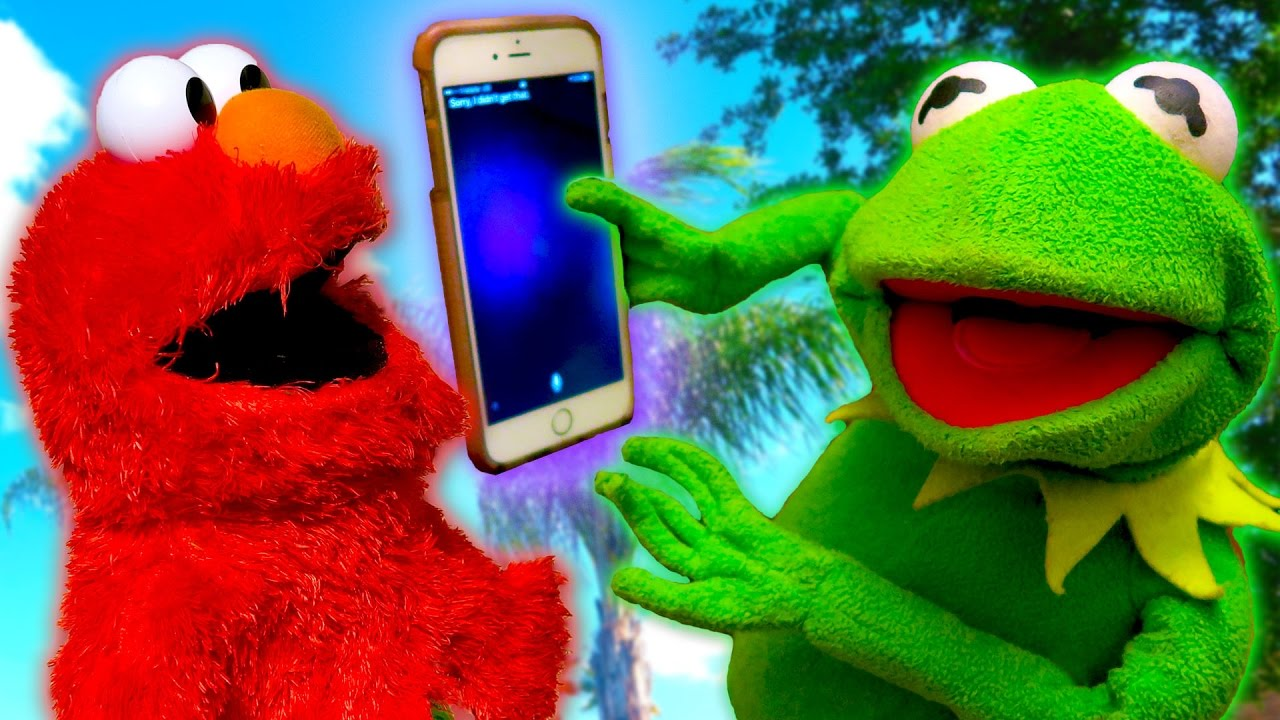kermit: (822, 44, 1280, 474)
